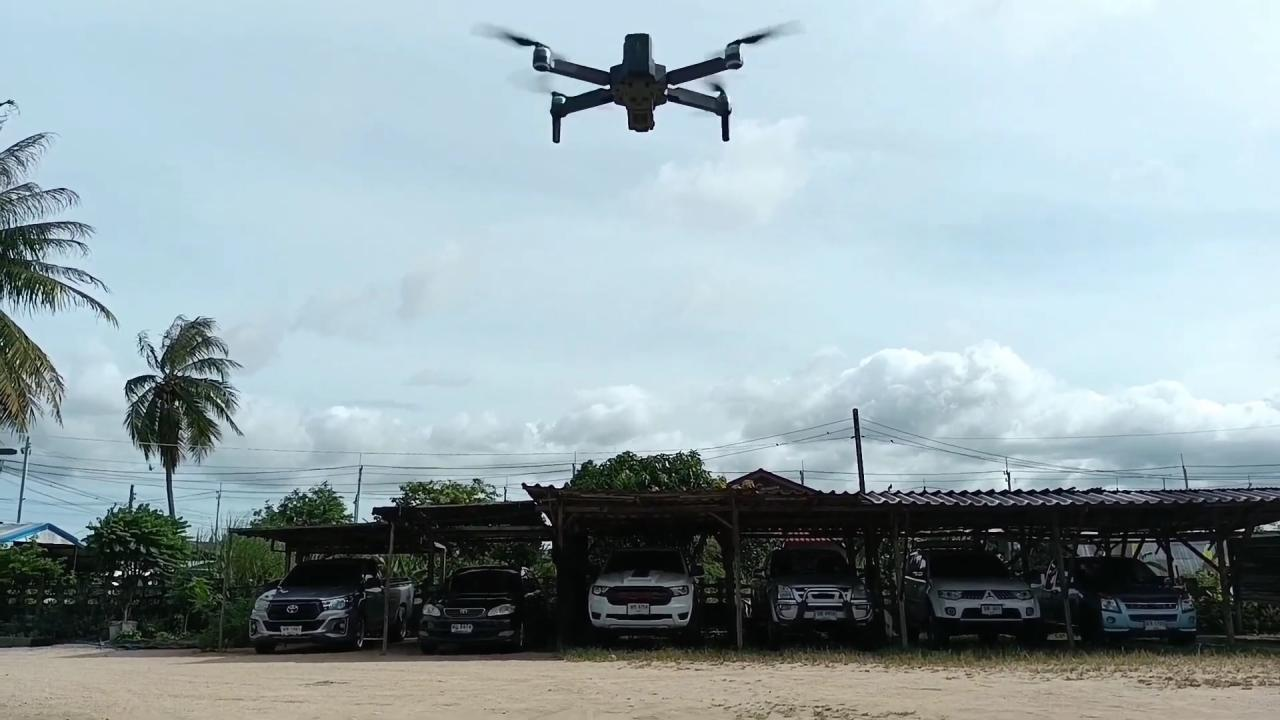Drone: (457, 11, 815, 161)
